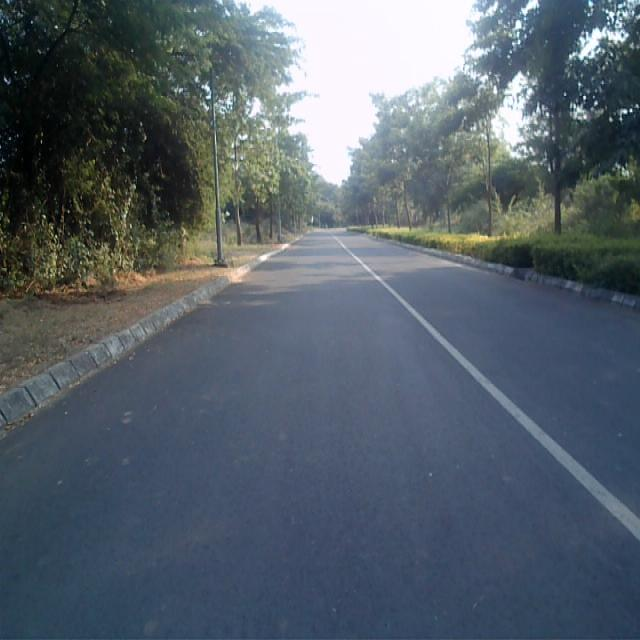lane: (0, 231, 640, 640)
